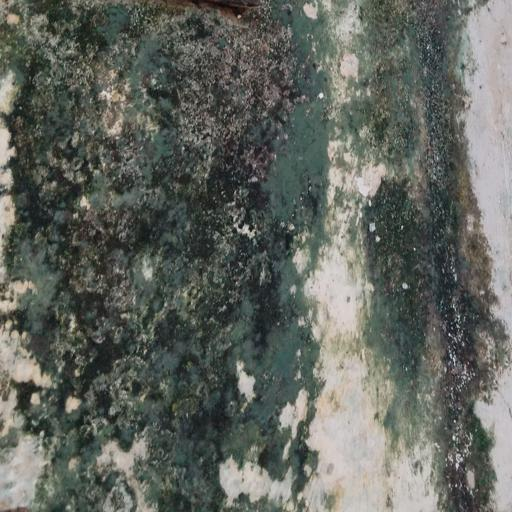algae: (9, 7, 500, 494)
